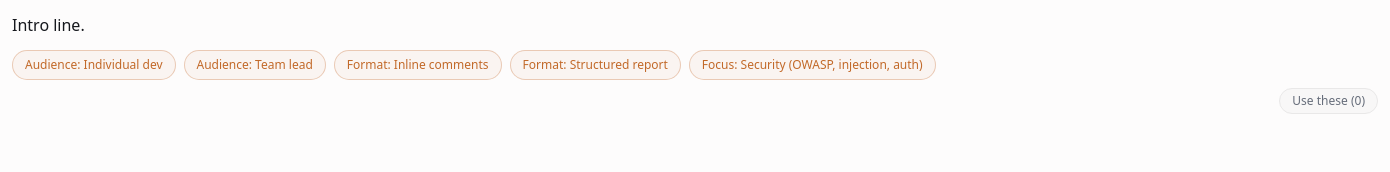
Test case: OptionsBlock (multiSelect={true}) › 5. commit button is enabled and label shows (N) when N>=1
Click the checkbox labelled "Audience: Individual dev": click(94, 65) [12, 50, 176, 80]
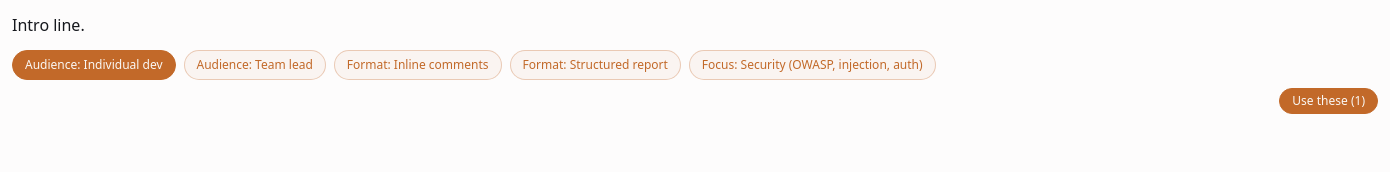
Click the checkbox labelled "Audience: Team lead": click(255, 65) [184, 50, 326, 80]
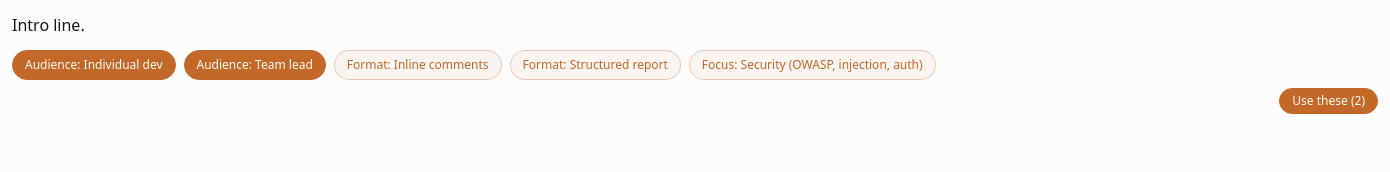
Now the button "Use these (2)" is enabled, box [1279, 88, 1378, 114]
Now the button "Use these (2)" is shown, box [1279, 88, 1378, 114]
